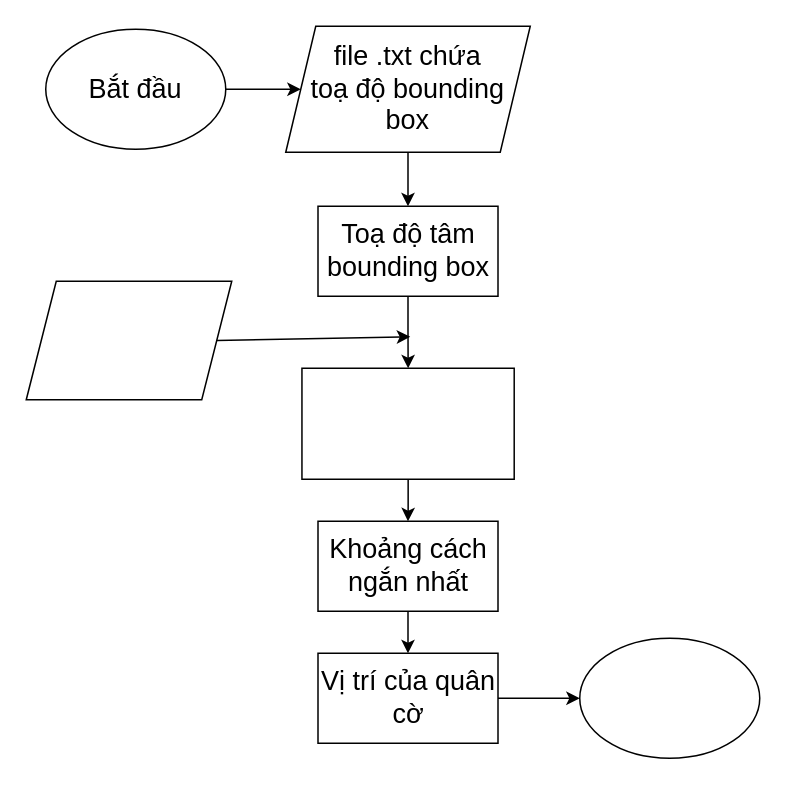
Some shapes in this 786 by 785 pixel diagram are drawn without their labels. Here are the shapes that lost their labels. From the top down, the box of each, then its label:
(25, 280, 232, 400): Toạ độ các ô
(300, 367, 514, 479): Khoảng cách Euclid từ tâm đến các ô
(578, 637, 760, 758): Kết thúc
